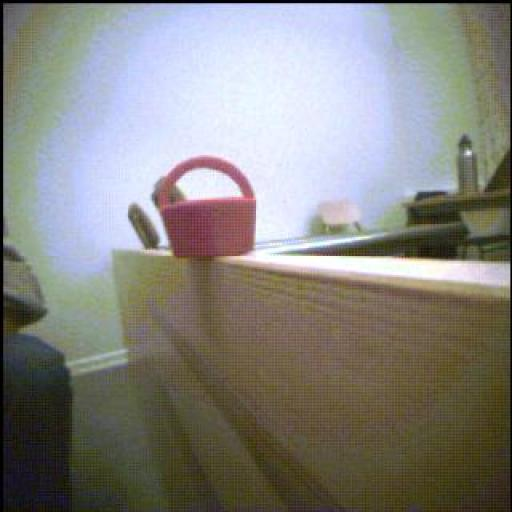Bucket: (146, 152, 265, 267)
